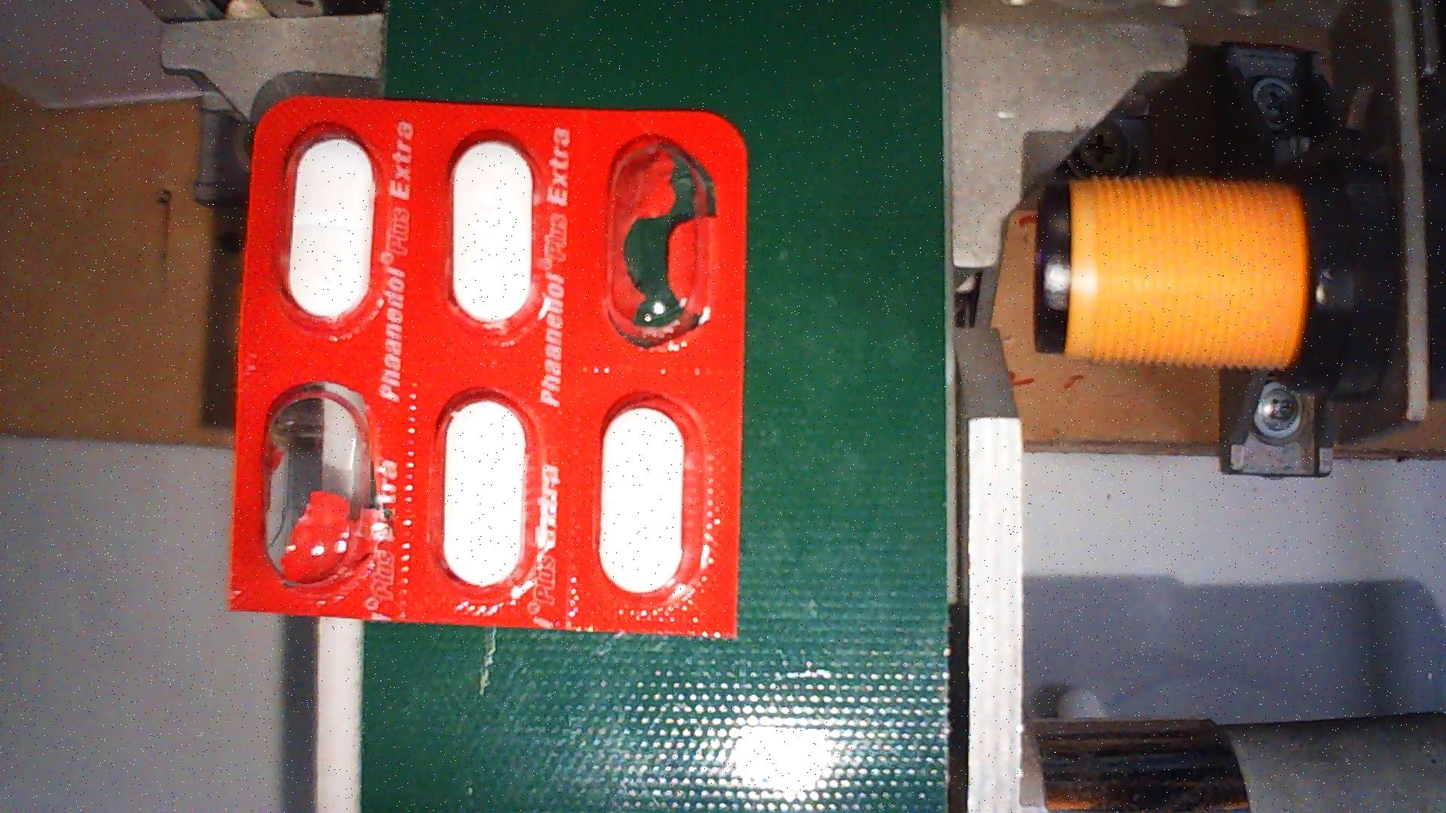Empty: (597, 134, 722, 351), (252, 381, 377, 597)
Full: (581, 394, 706, 610), (427, 126, 552, 342), (420, 387, 544, 604), (265, 118, 389, 335)
